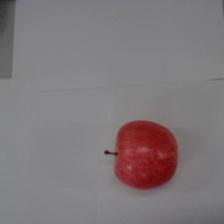red: (111, 118, 180, 191)
